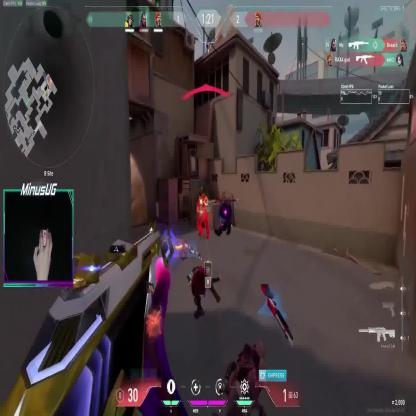enemy: (195, 192, 211, 240)
enemy_head: (200, 192, 206, 202)
